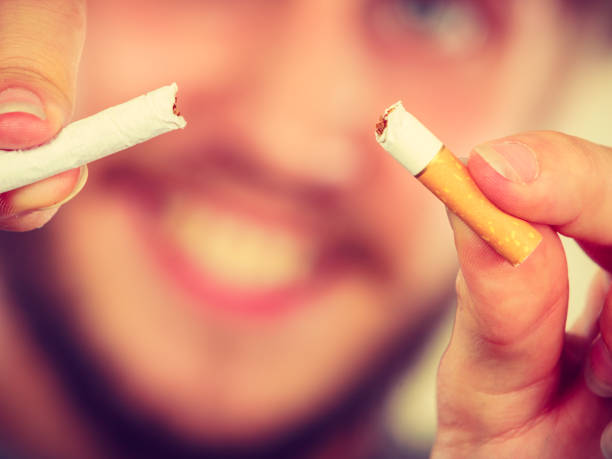cigarette: (374, 99, 542, 268), (0, 79, 186, 192)
